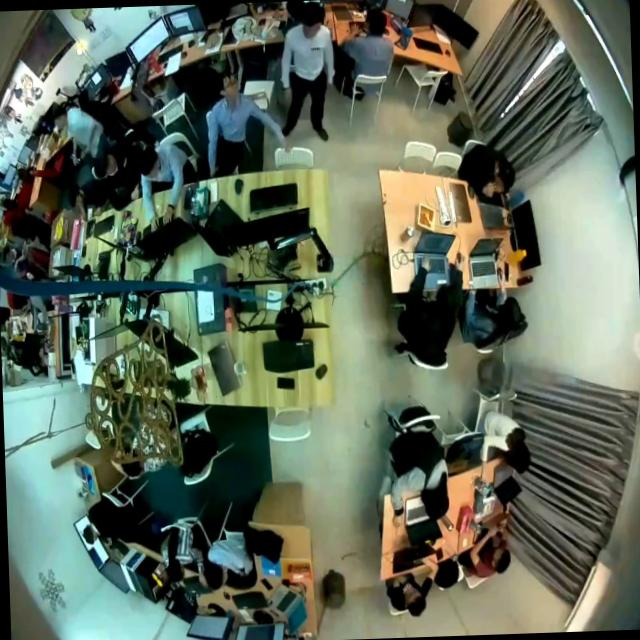employee_tag: (309, 42, 321, 56)
